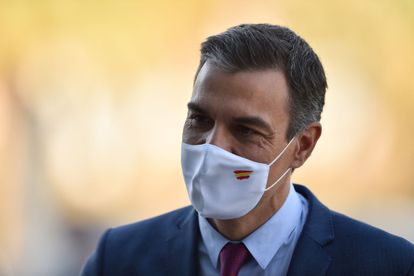with_mask: (186, 48, 285, 223)
